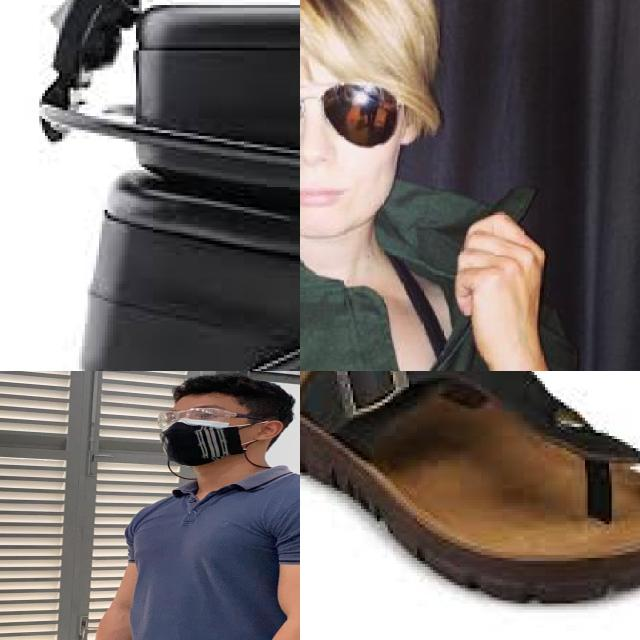Ear-protection: (73, 164, 300, 371), (116, 0, 300, 224)
Sandals: (300, 371, 640, 633)
face_mask: (148, 406, 248, 464)
face_nomask: (300, 77, 384, 213)
glasses: (300, 76, 420, 150), (150, 404, 270, 429)
hand_noglove: (445, 205, 553, 358)
head_nohelmet: (300, 0, 430, 59), (165, 371, 291, 403)
person: (300, 0, 607, 371), (58, 371, 300, 640)
